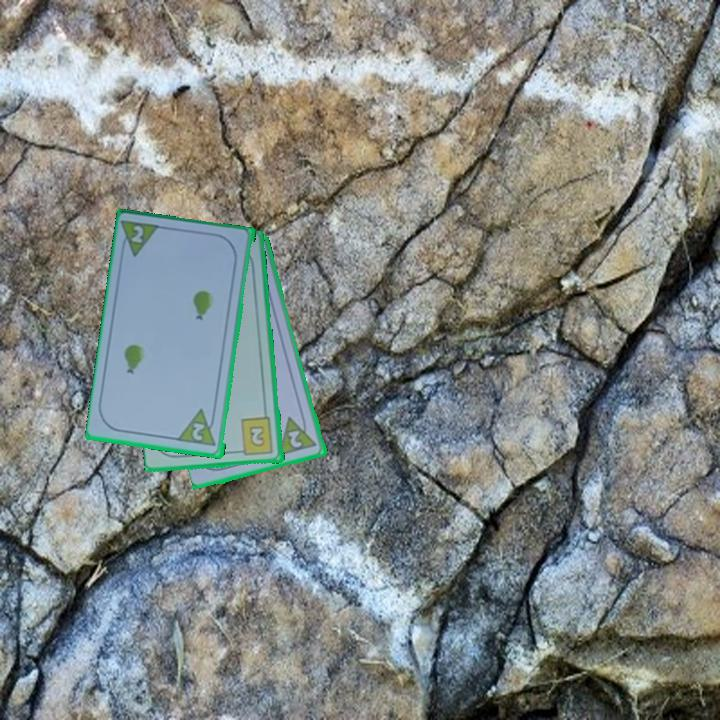2b: (234, 414, 276, 459)
2p: (276, 411, 320, 458), (118, 217, 165, 260), (189, 419, 208, 444)
